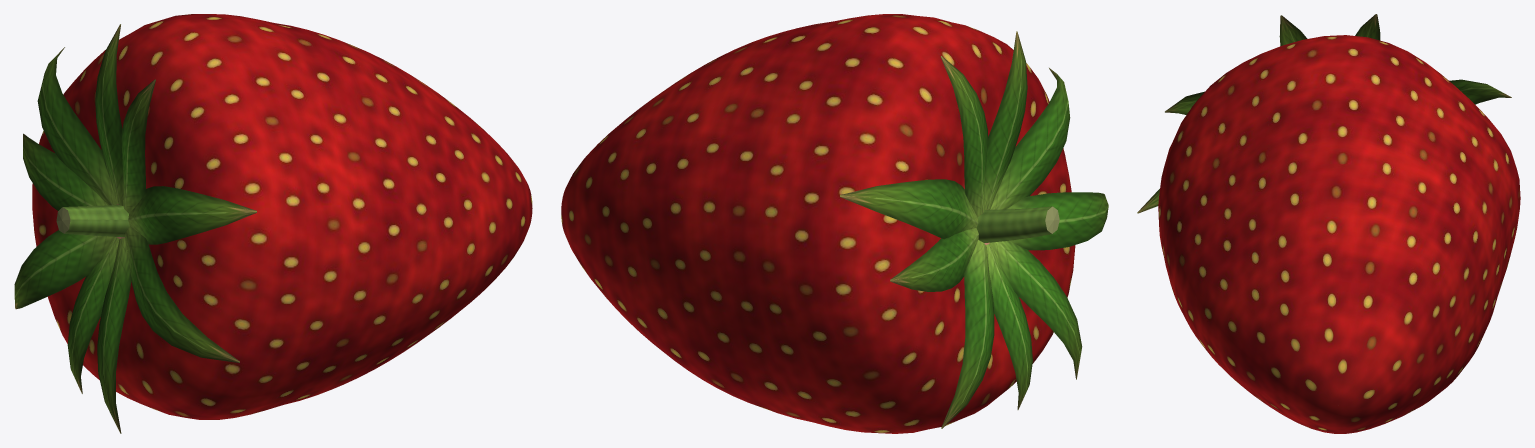
3 renders of one model, left to right at view 1: azimuth 30°, elevation 25°; view 2: azimuth 150°, elevation 25°; view 3: azimuth 270°, elevation 25°, orthographic. The views are drawn at different scales.
Visible parts, largest first — view 1: Asset; view 2: Asset; view 3: Asset.
Boxes of the visible parts, <box> form: Asset: <box>14,14,532,433</box>; Asset: <box>561,14,1108,433</box>; Asset: <box>1137,14,1520,433</box>.
Size of the model in its own units: 0.0333 by 0.0249 by 0.0269.
2 materials, 2 textured.
